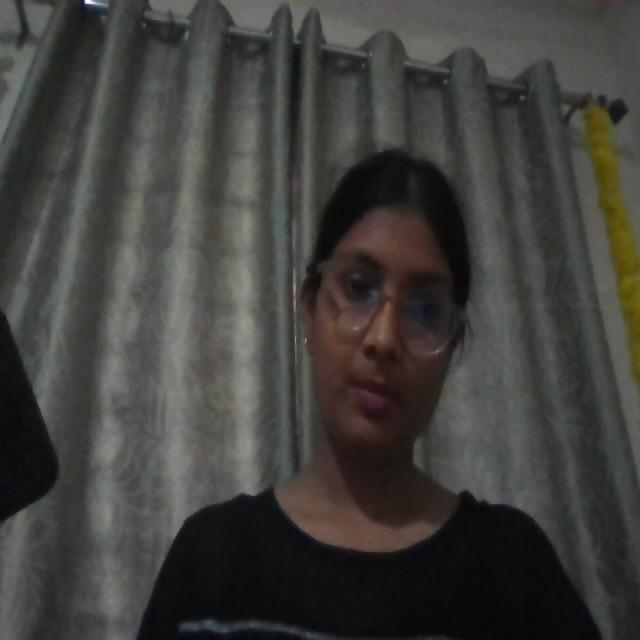phone: (0, 309, 58, 523)
